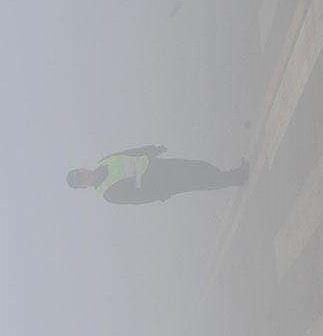person: (65, 142, 249, 205)
